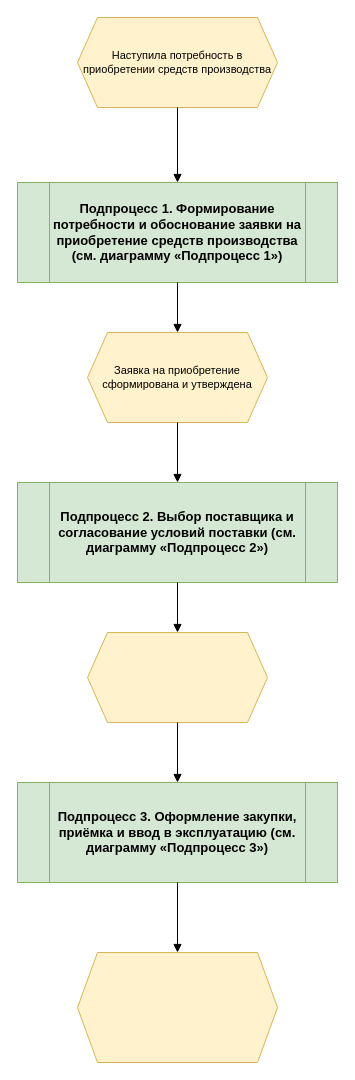
Image size: 355x1080. Some labels were removed from this diagram. The shapes that lost their labels are listed below. From the top down, each one's centre as x and y in pixels, then its label:
At point (177, 677): "Поставщик выбран, договор заключён".
At point (177, 1007): "Средства производства приобретены, приняты и введены в эксплуатацию".
